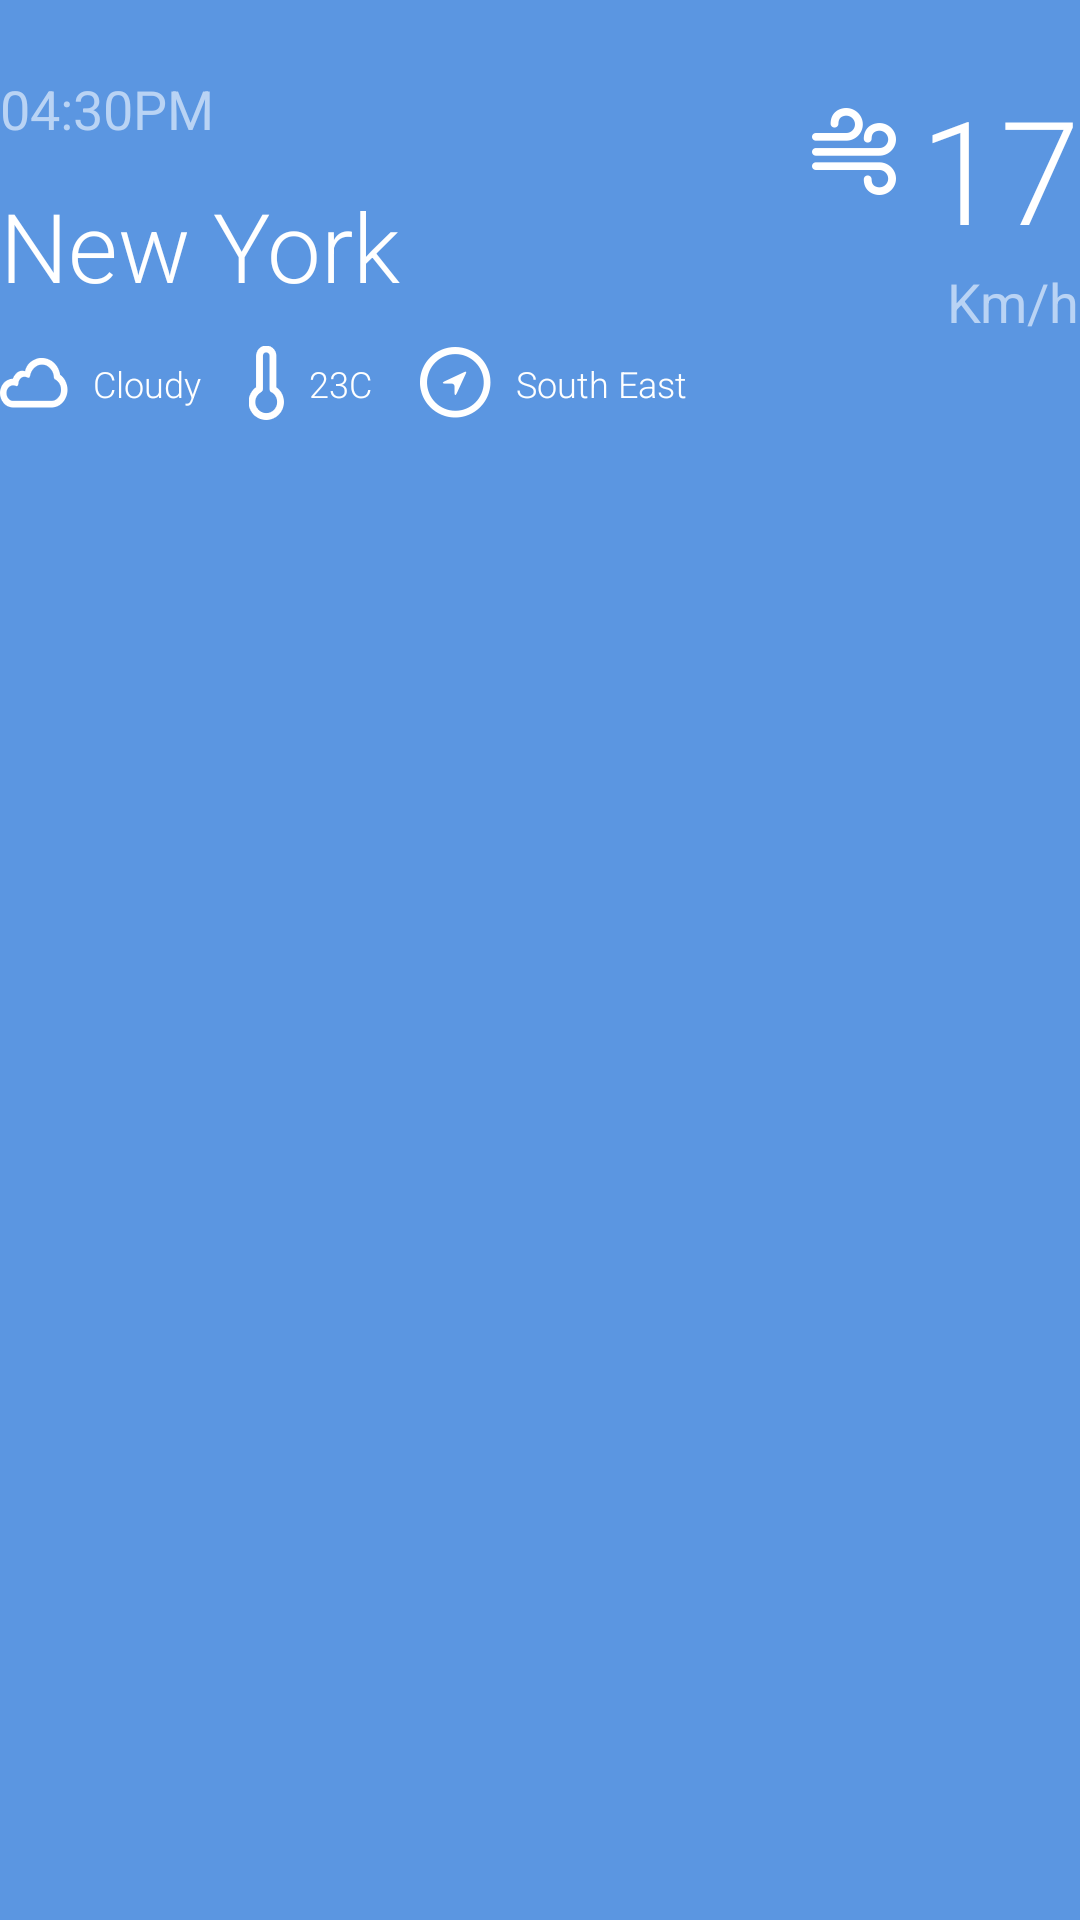

Icons on this 1080w x 1920h Android screen, each with the point to tap as (x,y):
temperature: (266,383)
wind: (854,151)
wind direction: (455,382)
